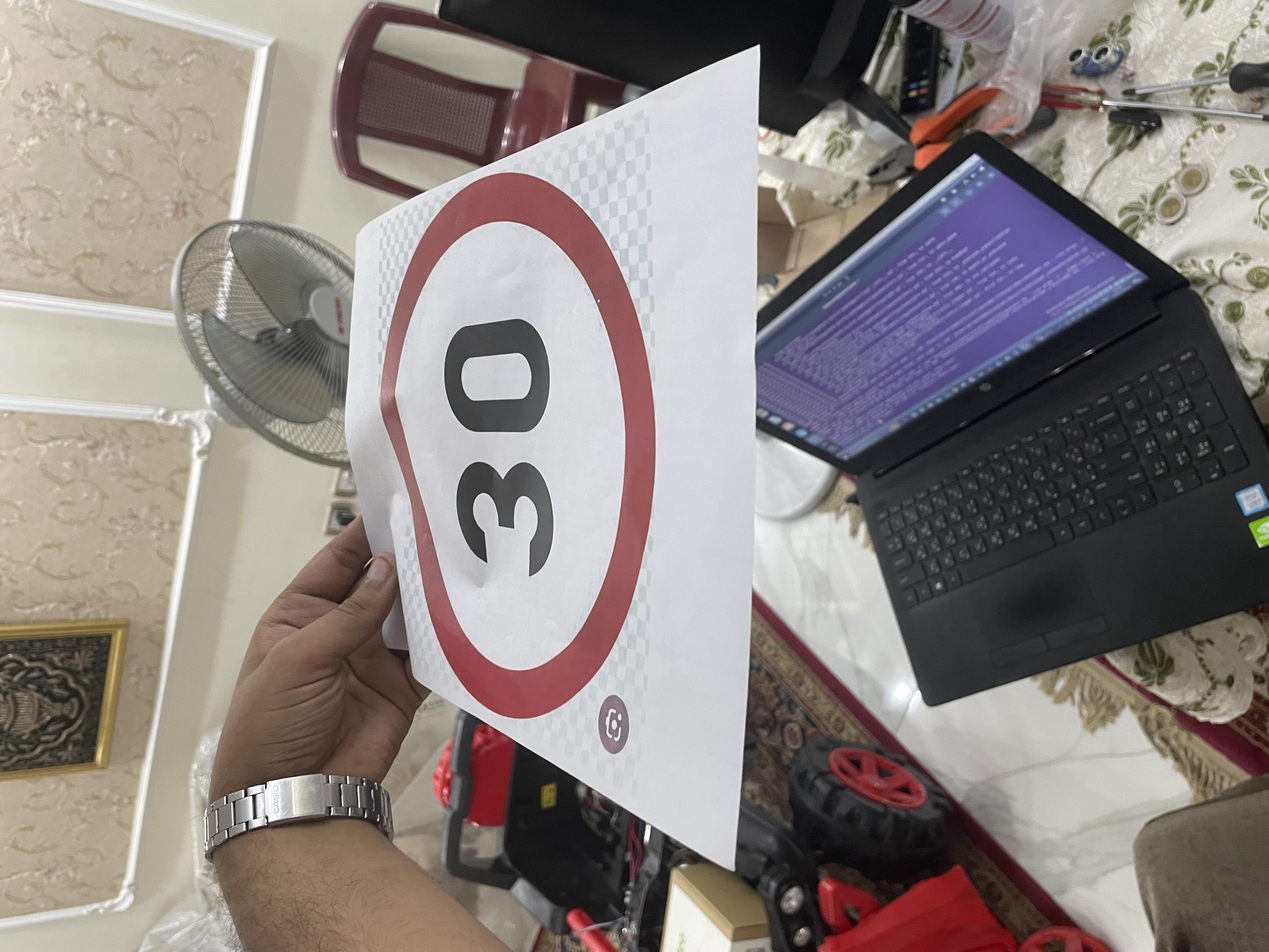30-speed: (308, 286, 1046, 494)
